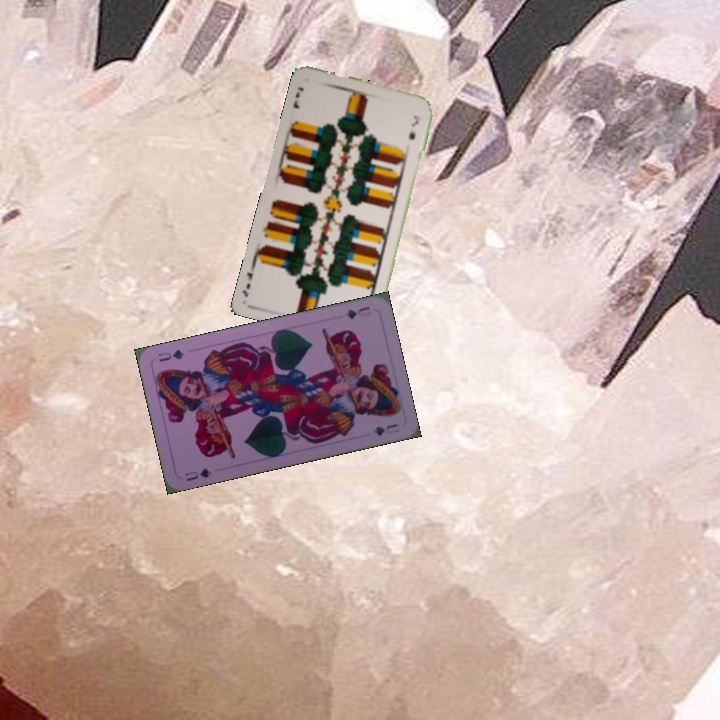E7: (289, 83, 306, 111)
GU: (181, 464, 214, 484), (341, 302, 374, 321)
